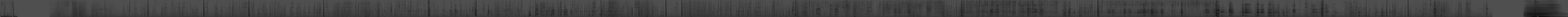Moan: (1215, 0, 1220, 17)
